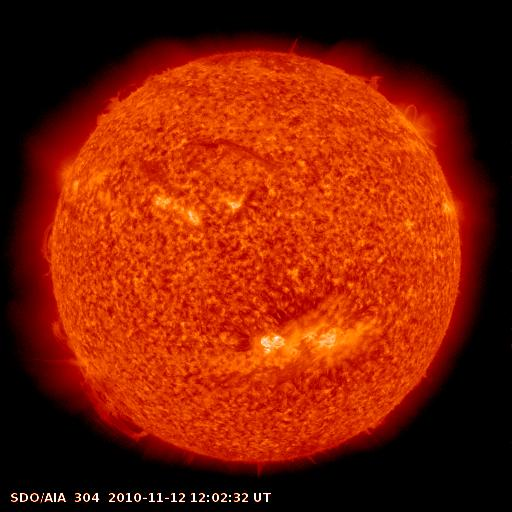prominence: (69, 372, 157, 450), (86, 67, 177, 129), (26, 306, 99, 376), (27, 214, 69, 282), (392, 99, 445, 147), (339, 59, 397, 95), (268, 27, 316, 62)
